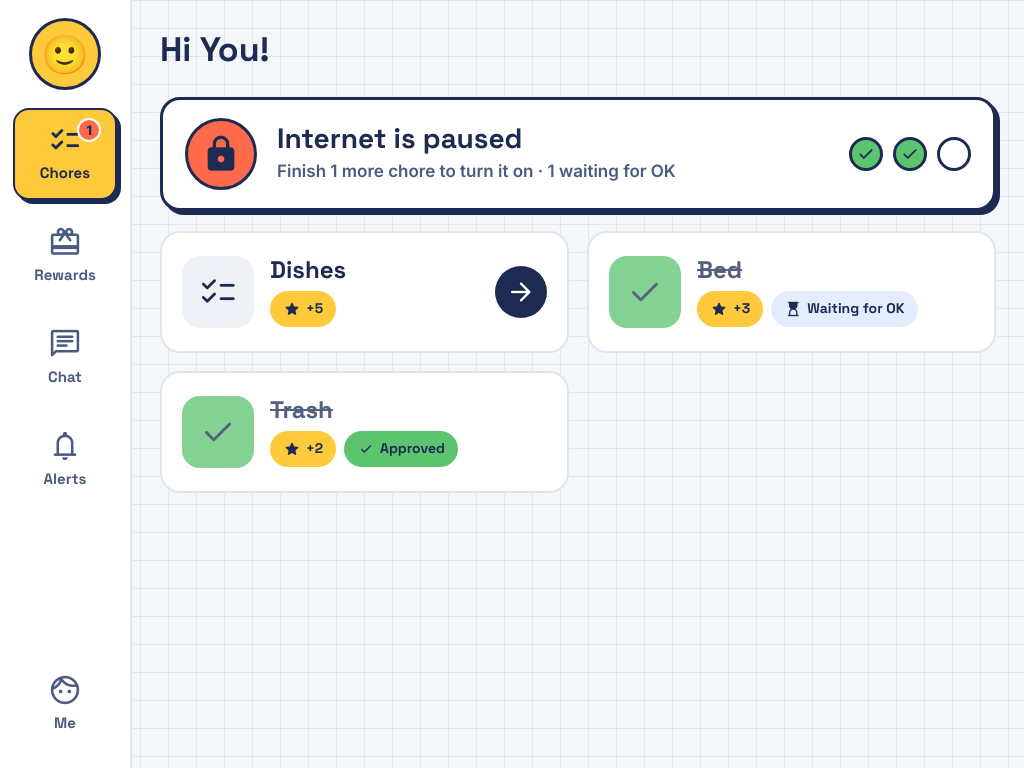
kid lock screen › mark-done 401 restarts at whoami
Click the button named "Open Dishes": (201, 303) [160,231,569,353]
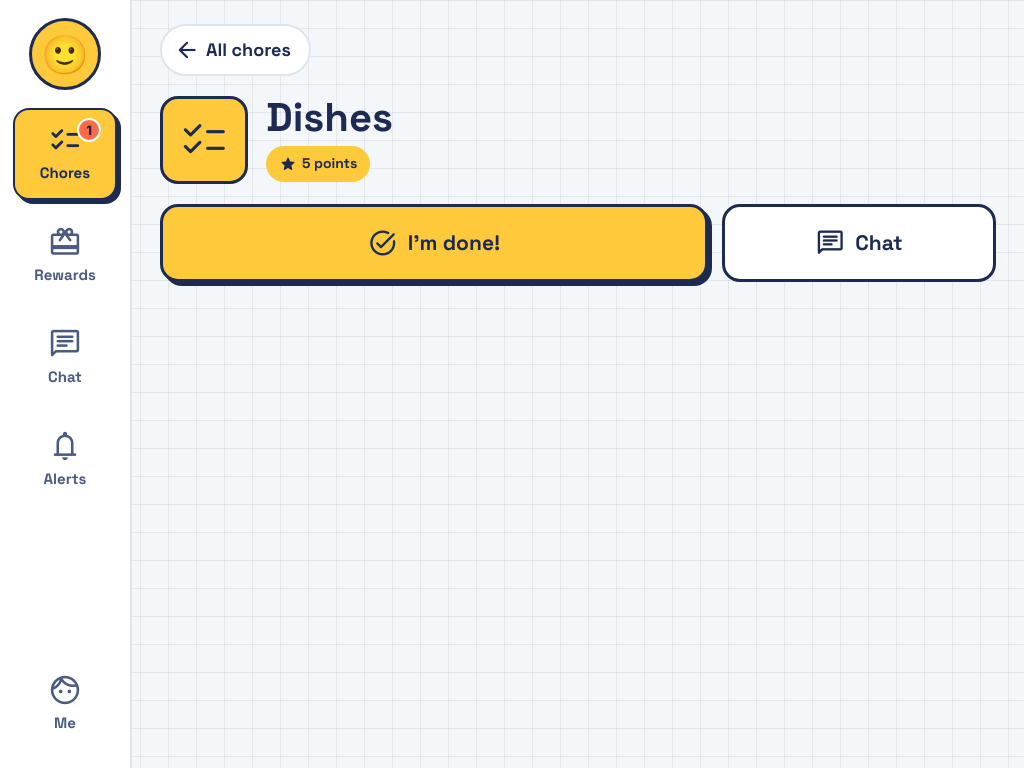
Click the button "I'm done!": (434, 243) [160,204,708,282]
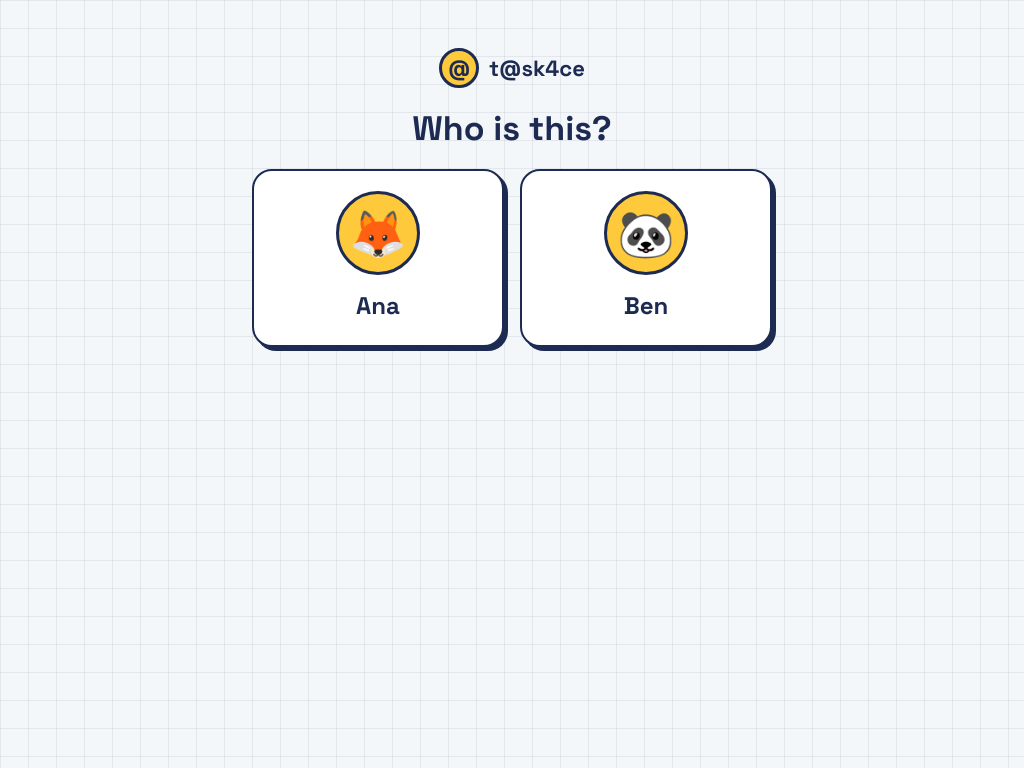
Expected: the button "🐼 Ben" is shown, [520,169,772,347]
